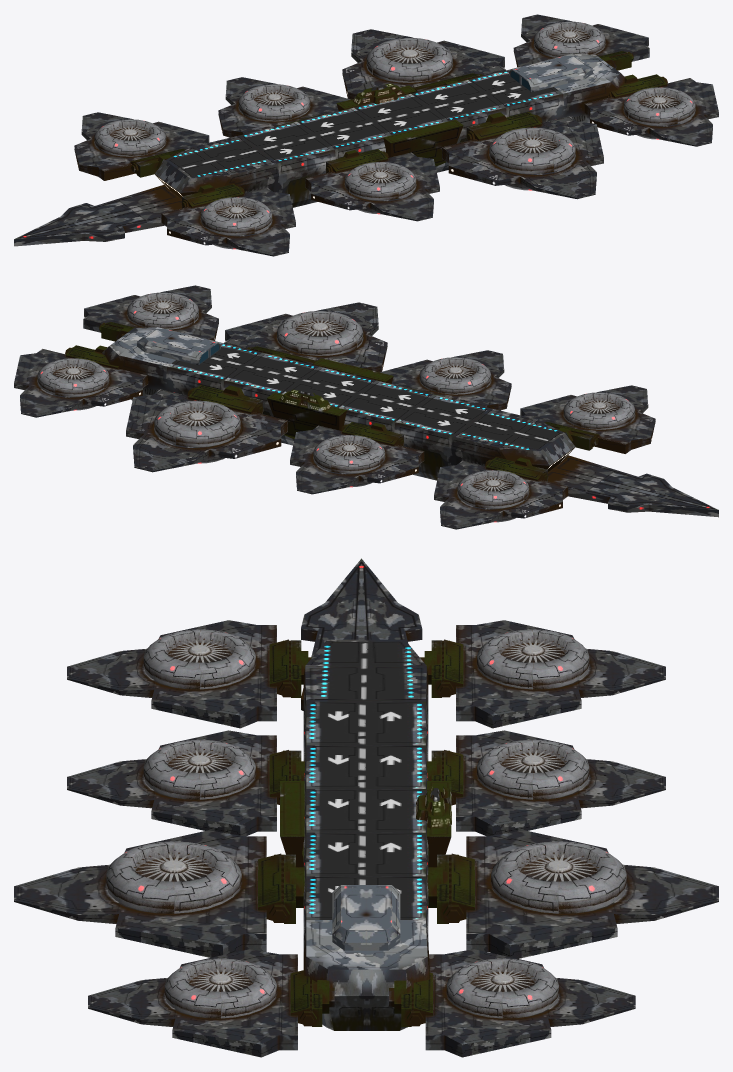
File: rlab-skycruiser.glb
The picture shows the model from 3 angles, top to bottom: view 1: azimuth 30°, elevation 25°; view 2: azimuth 150°, elevation 25°; view 3: azimuth 270°, elevation 25°; orthographic projection. The views are drawn at different scales.
Visible parts, largest first — view 1: Wing_Mount.350, Wing_Mount.301, Wing_Mount.272, Wing_Mount.039, Wing_Mount.010, Wing_Mount.197, Wing_Mount.247, Wing_Mount.171, Wing_Mount.326, Wing_Mount.021, Wing_Mount.011, Wing_Mount.222 (+40 smaller); view 2: Wing_Mount.197, Wing_Mount.247, Wing_Mount.222, Wing_Mount.010, Wing_Mount.172, Wing_Mount.350, Wing_Mount.272, Wing_Mount.006, Wing_Mount.326, Wing_Mount.021, Wing_Mount.011, Wing_Mount.301 (+41 smaller); view 3: Wing_Mount.197, Wing_Mount.350, Wing_Mount.247, Wing_Mount.272, Wing_Mount.039, Wing_Mount.172, Wing_Mount.301, Wing_Mount.222, Wing_Mount.324, Wing_Mount.010, Wing_Mount.021, Wing_Mount.011 (+50 smaller).
Boxes of the visible parts, x1,y1,x2,y2 form: Wing_Mount.350: [442, 116, 603, 199]; Wing_Mount.301: [305, 152, 439, 221]; Wing_Mount.272: [161, 187, 295, 256]; Wing_Mount.039: [584, 78, 718, 146]; Wing_Mount.010: [240, 121, 335, 207]; Wing_Mount.197: [342, 29, 505, 99]; Wing_Mount.247: [74, 112, 209, 180]; Wing_Mount.171: [14, 198, 181, 246]; Wing_Mount.326: [193, 135, 278, 192]; Wing_Mount.021: [411, 80, 506, 171]; Wing_Mount.011: [297, 107, 391, 158]; Wing_Mount.222: [218, 77, 350, 137]; Wing_Mount.197: [126, 389, 287, 472]; Wing_Mount.247: [434, 460, 568, 529]; Wing_Mount.222: [290, 425, 424, 494]; Wing_Mount.010: [394, 394, 489, 480]; Wing_Mount.172: [14, 348, 148, 417]; Wing_Mount.350: [224, 302, 387, 372]; Wing_Mount.272: [520, 385, 655, 453]; Wing_Mount.006: [548, 469, 718, 517]; Wing_Mount.326: [451, 408, 537, 465]; Wing_Mount.021: [223, 352, 318, 444]; Wing_Mount.011: [339, 380, 432, 431]; Wing_Mount.301: [380, 350, 511, 410]; Wing_Mount.197: [466, 830, 718, 958]; Wing_Mount.350: [14, 830, 266, 957]; Wing_Mount.247: [456, 620, 665, 728]; Wing_Mount.272: [67, 620, 276, 728]; Wing_Mount.039: [88, 949, 297, 1057]; Wing_Mount.172: [425, 949, 635, 1057]; Wing_Mount.301: [67, 730, 276, 836]; Wing_Mount.222: [456, 730, 665, 836]; Wing_Mount.324: [303, 920, 429, 1030]; Wing_Mount.010: [303, 701, 428, 760]; Wing_Mount.021: [303, 832, 428, 893]; Wing_Mount.011: [303, 745, 428, 798].
Bounding box in the file's own units: 2 × 0.1902 × 1.17.
Materials: 1 (1 with a texture image).
